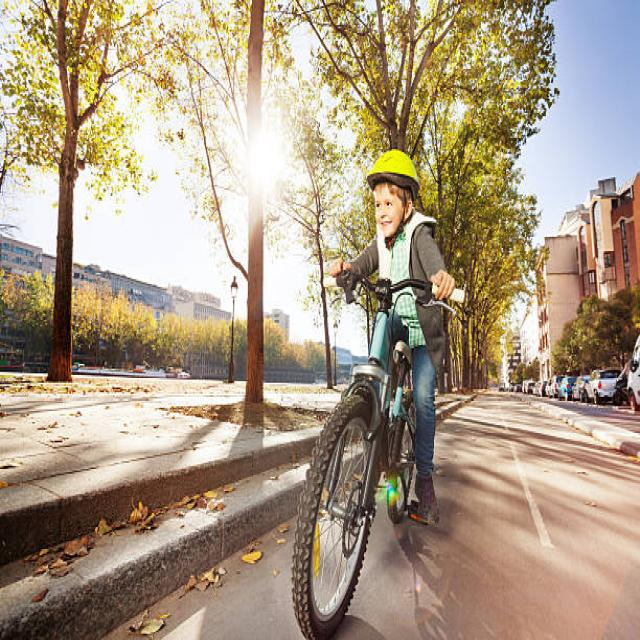bicycle: (292, 150, 455, 638)
